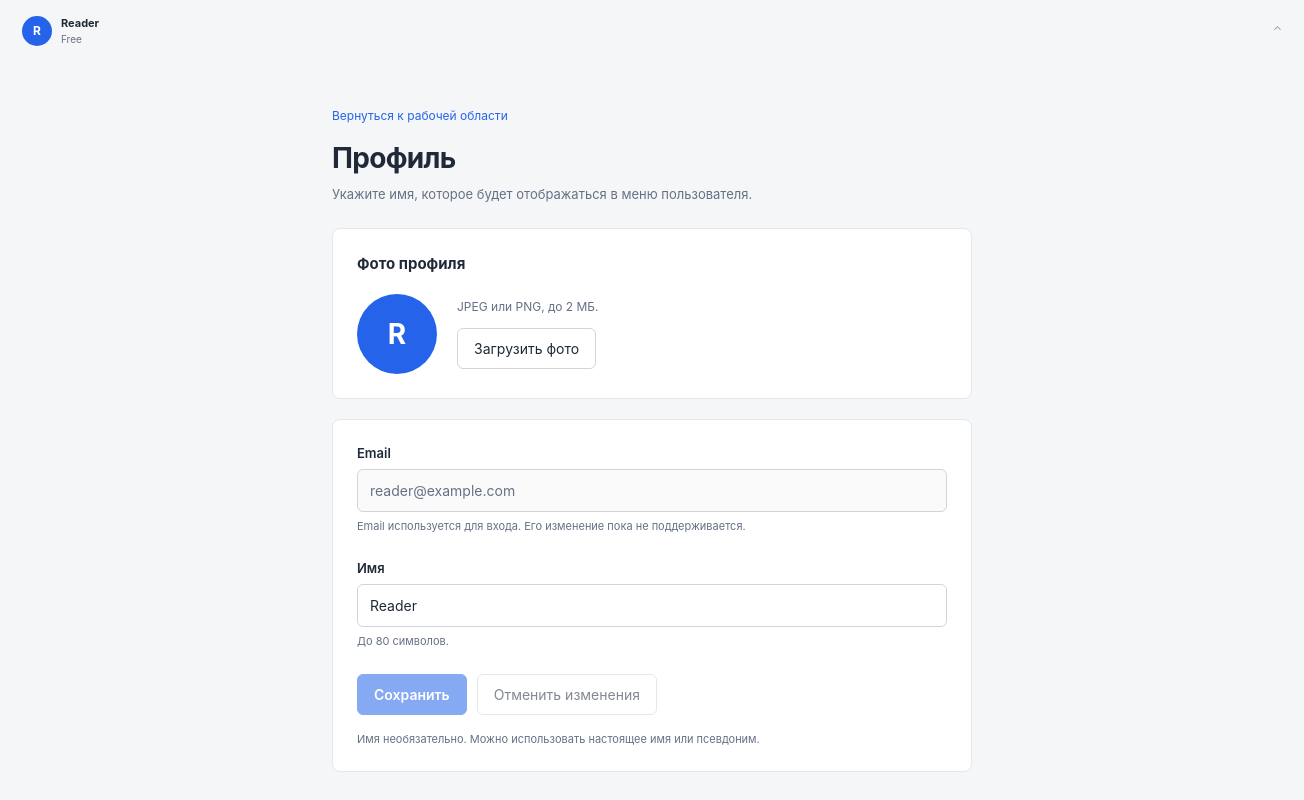
Test case: profile editing UI › shows a general error for hidden field validation without losing the name draft
This screenshot has width=1304, height=800.
Replace the text in the field labelled "Имя" with "Draft". click: (652, 606)
box: [357,584,947,627]
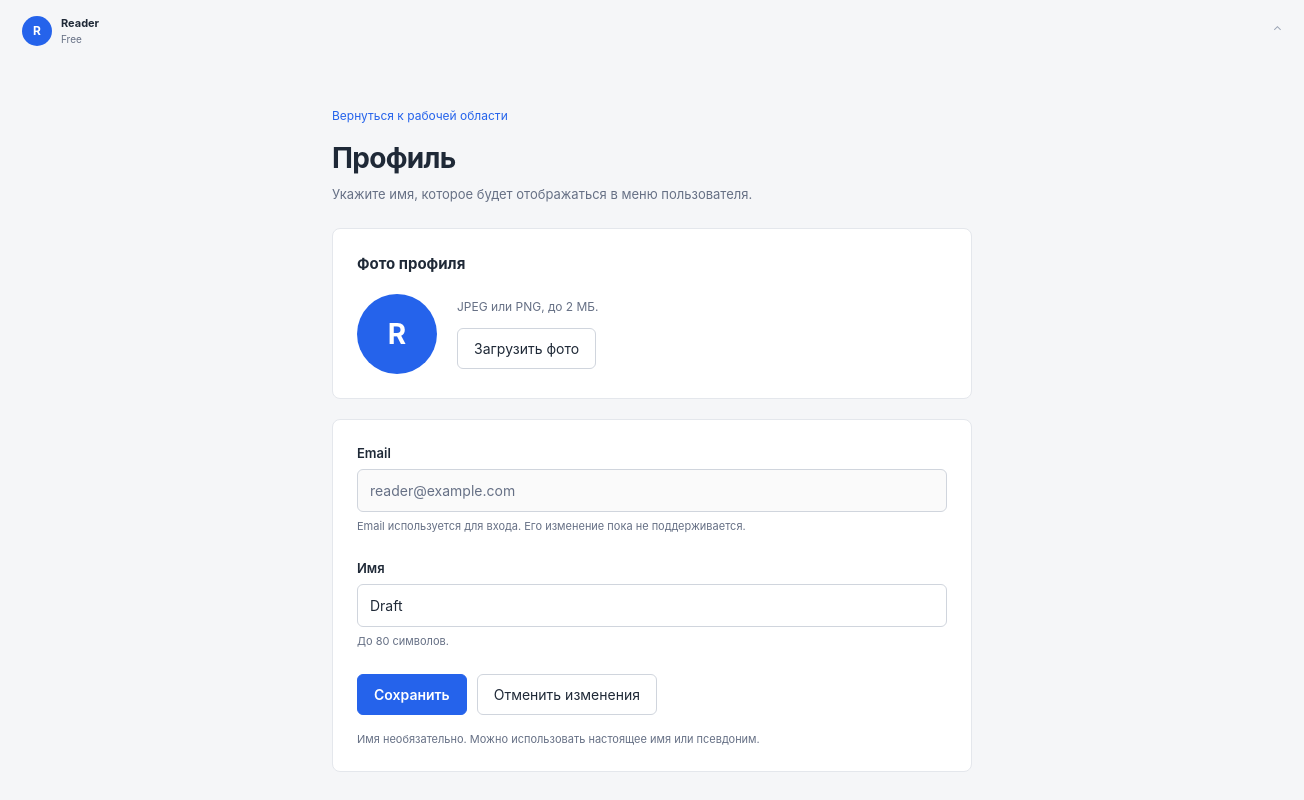
Submit the form named "Сохранить", box [332,418,972,772]
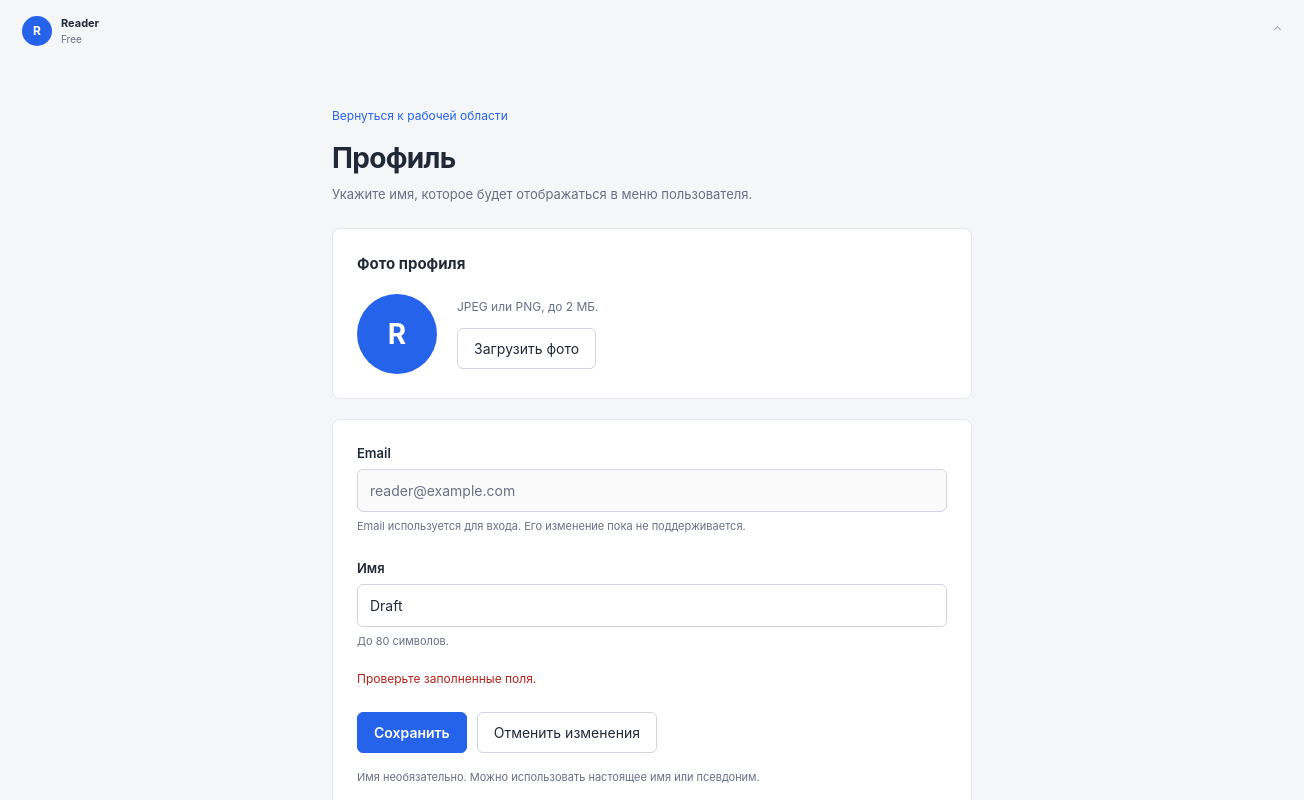
Expected: the text "Проверьте заполненные поля." is shown, [357,670,536,686]
